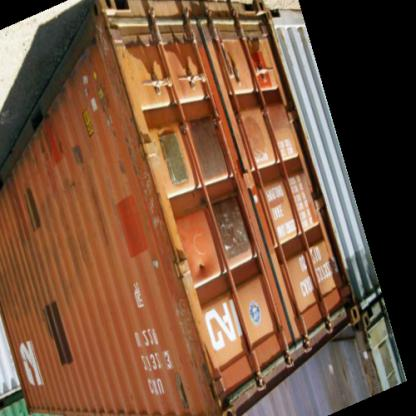Damage: (144, 189, 192, 378), (98, 21, 148, 190), (40, 236, 102, 298), (186, 341, 232, 411), (43, 144, 98, 193)
